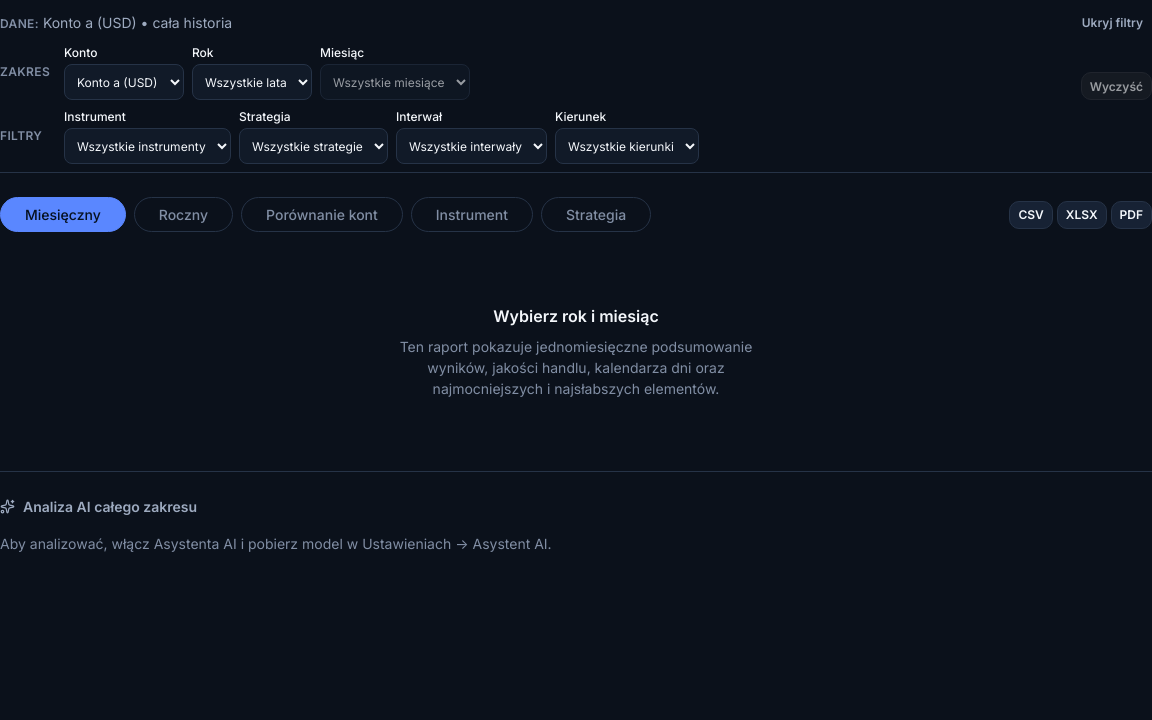
it: ReportsPage › przełączenie na zakładkę z zapamiętanym filtrem przywraca DOKŁADNIE ten filtr
Expected: the tab "Miesięczny" is shown, [0,197,126,232]
Select "Czerwiec" in the dropdown labelled "Miesiąc" at (395, 82), box [320,64,470,100]
Click the tab "Roczny".
click(183, 214)  # box [134,197,233,232]
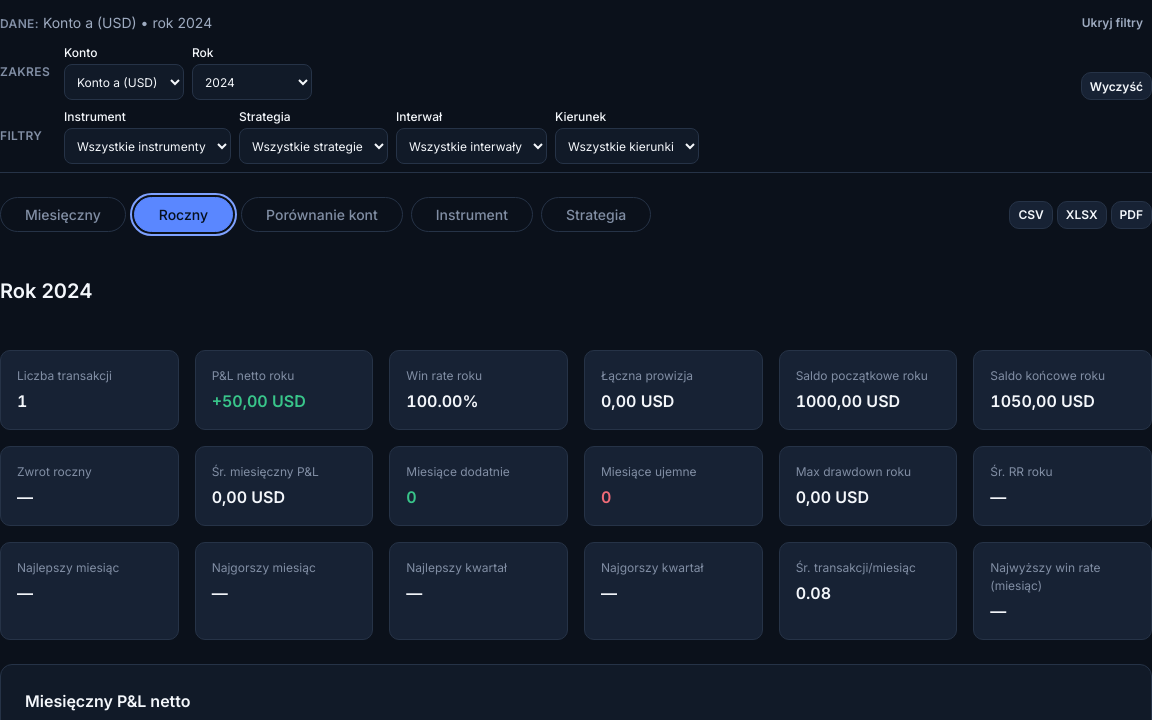
Expected: the dropdown labelled "Rok" shows "2024", [192,64,312,100]
